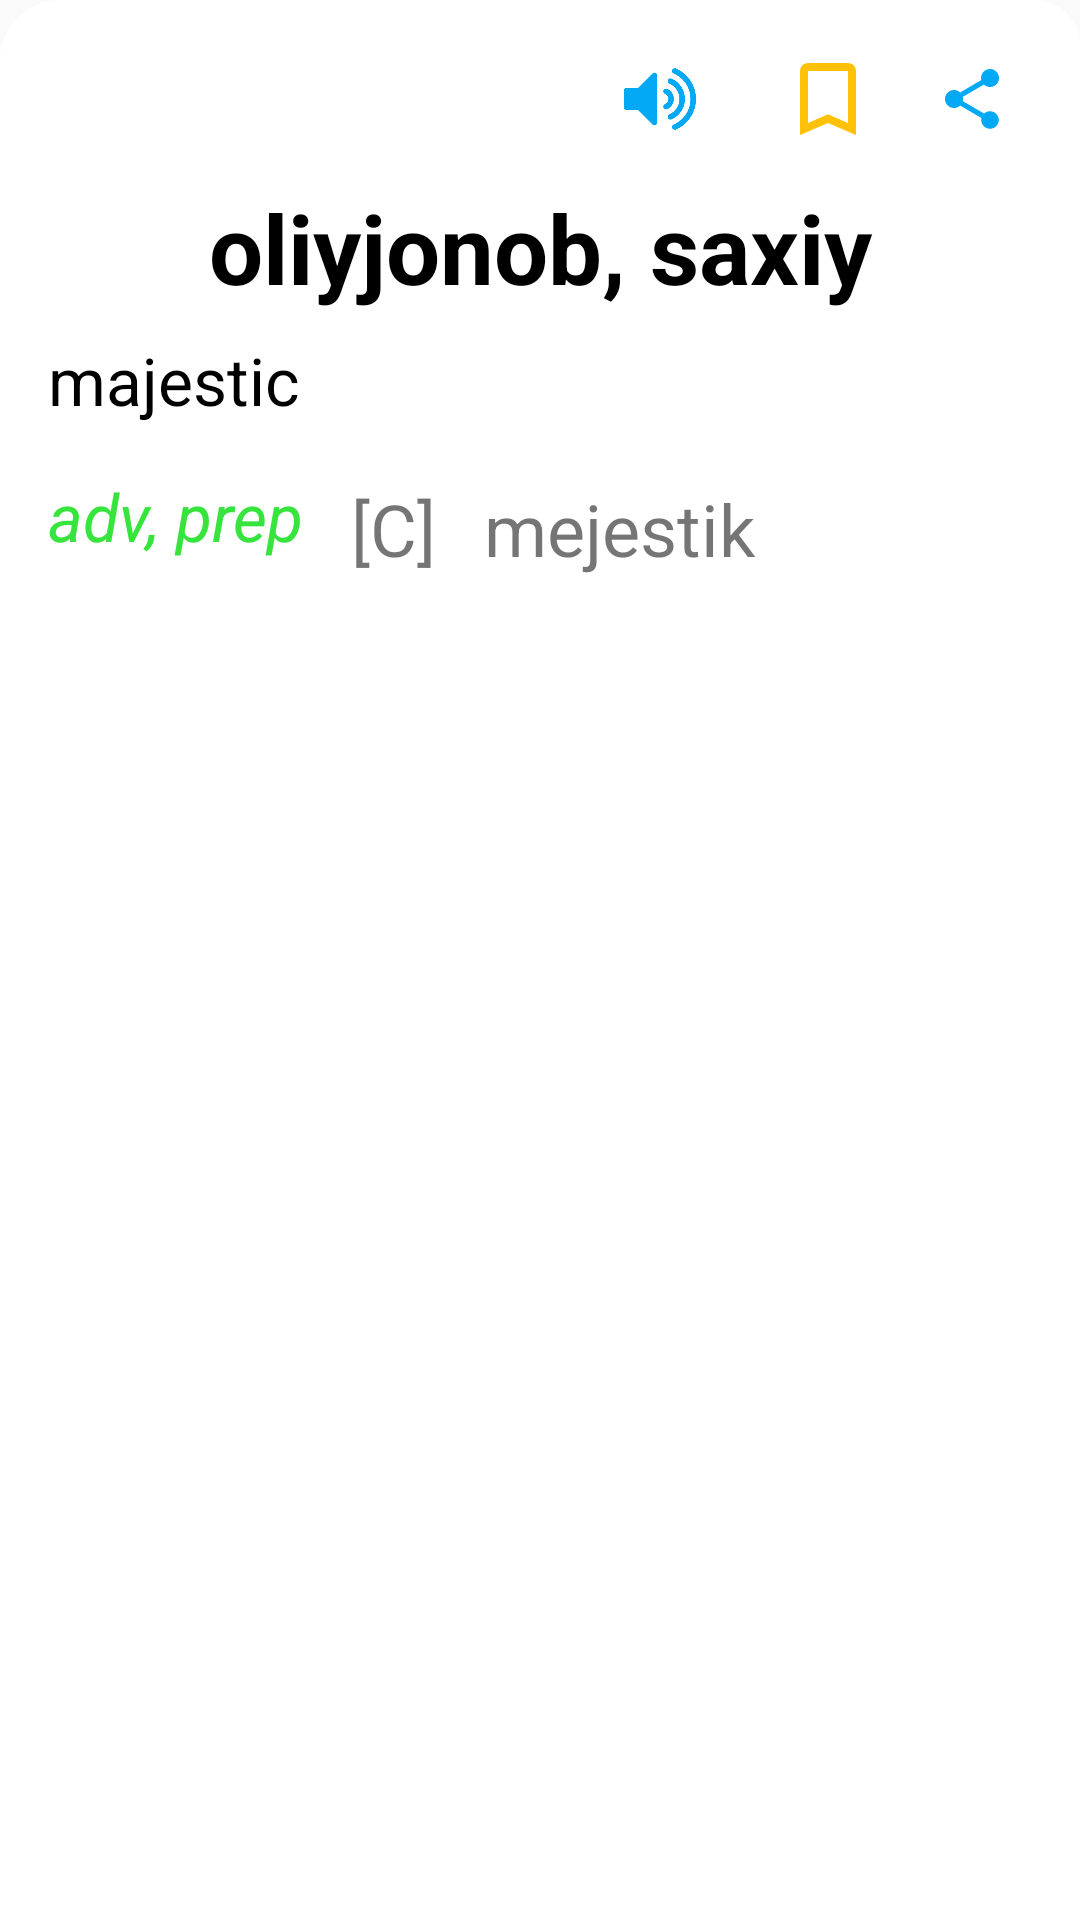

Where icons sit on this 1080 x 1920 app screen, as bbox=(x1, y1, x2, y2):
bookmark border: bbox=(800, 63, 856, 135)
share: bbox=(945, 69, 999, 129)
volume: bbox=(624, 68, 696, 130)
